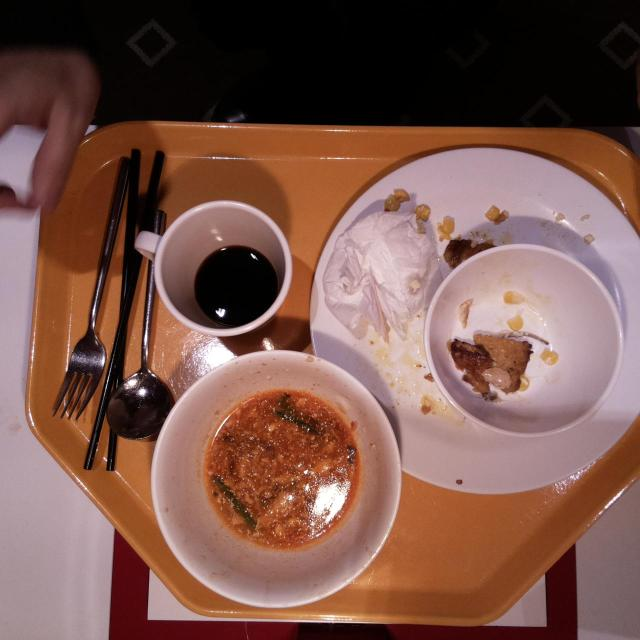Meat: (476, 333, 532, 395), (448, 336, 494, 404)
